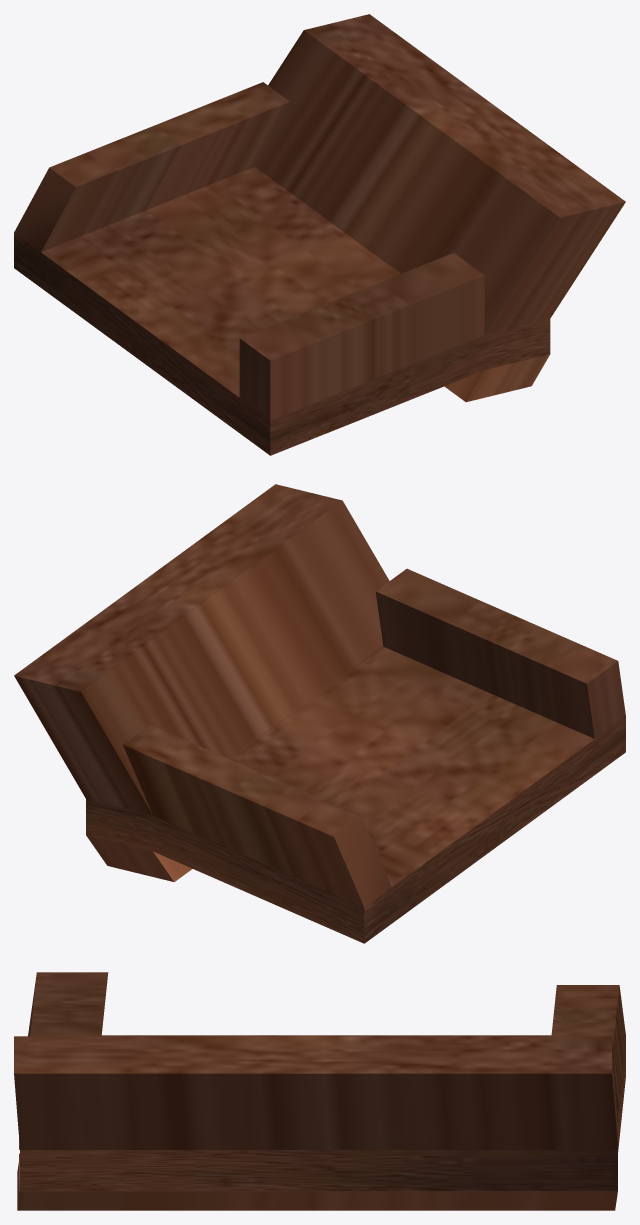
The model's file is sofa.obj.
The picture shows the model from 3 angles, top to bottom: view 1: azimuth 30°, elevation 25°; view 2: azimuth 150°, elevation 25°; view 3: azimuth 270°, elevation 25°; orthographic projection. The views are drawn at different scales.
Parts seen in each view (by area): view 1: pCube1; view 2: pCube1; view 3: pCube1.
Boxes of the visible parts, <box> form: pCube1: <box>14,14,625,455</box>; pCube1: <box>14,484,625,943</box>; pCube1: <box>14,972,625,1210</box>.
Size of the model in its own units: 4.2 by 1.99 by 5.47.
Materials: 1 (1 with a texture image).
